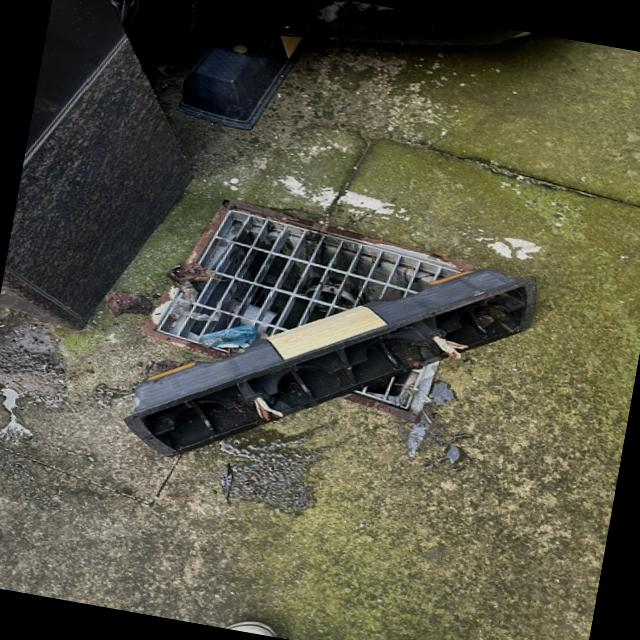drain_area: (160, 209, 462, 341), (358, 369, 424, 408)
drain_full: (157, 209, 463, 410)
